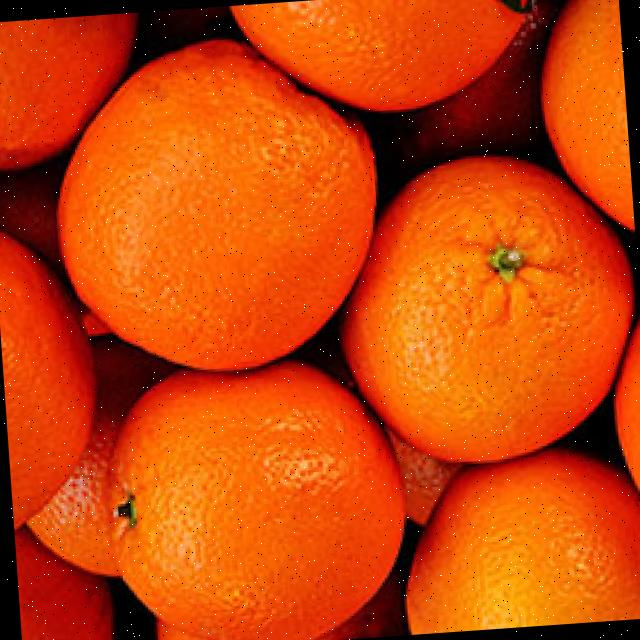Jeruk: (45, 29, 392, 384), (330, 147, 640, 474), (98, 356, 416, 640), (397, 443, 640, 634), (12, 339, 179, 584), (224, 0, 546, 126), (0, 216, 109, 549), (395, 0, 564, 165), (533, 0, 636, 255), (0, 14, 149, 173), (0, 160, 111, 344), (154, 573, 412, 640), (16, 519, 117, 640), (604, 233, 640, 570), (383, 420, 468, 530)
